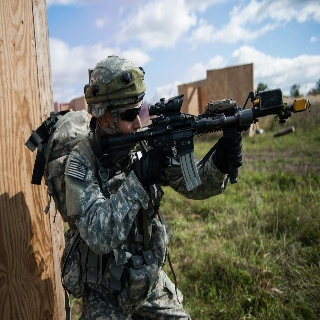rifle: (101, 87, 314, 194)
